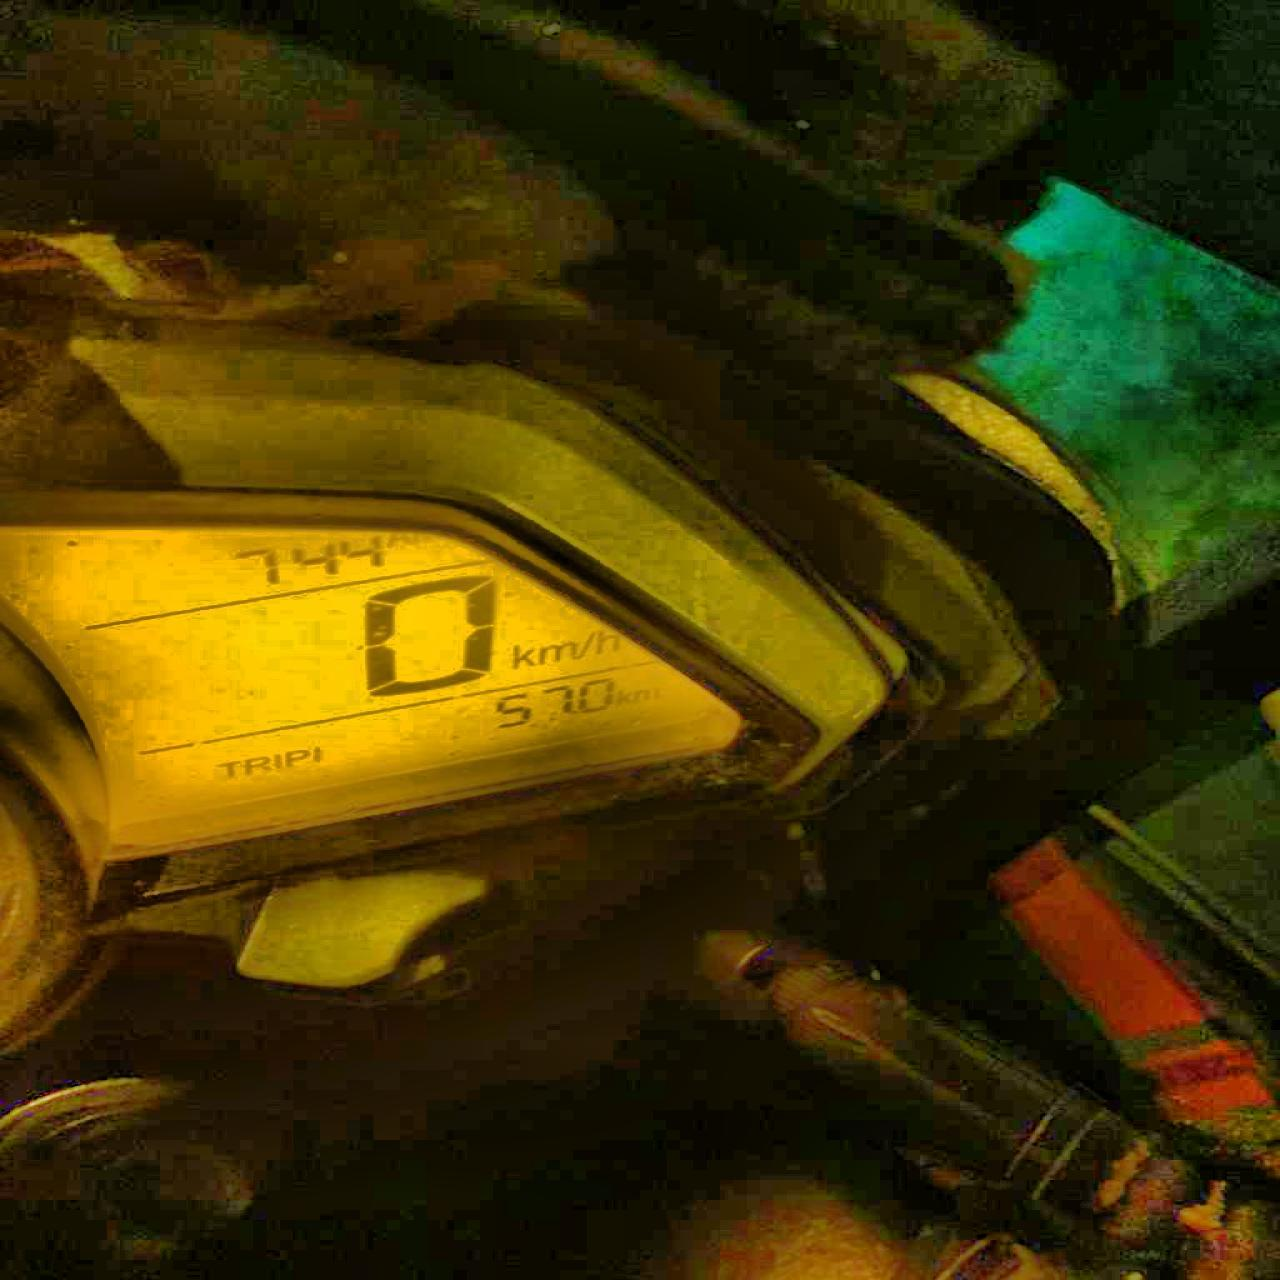-: (572, 708, 577, 716)
0: (578, 676, 612, 712)
1: (312, 742, 321, 767)
4: (288, 540, 336, 576), (339, 535, 382, 566)
5: (493, 692, 535, 729)
7: (233, 545, 281, 585), (542, 683, 572, 712)
X: (537, 642, 573, 663), (595, 626, 620, 655), (510, 642, 535, 669), (573, 631, 594, 658), (284, 748, 308, 768), (217, 757, 241, 777), (244, 755, 270, 772), (387, 529, 410, 546), (632, 686, 660, 700), (617, 687, 631, 704), (271, 751, 281, 770)
odometer: (0, 492, 751, 866)
